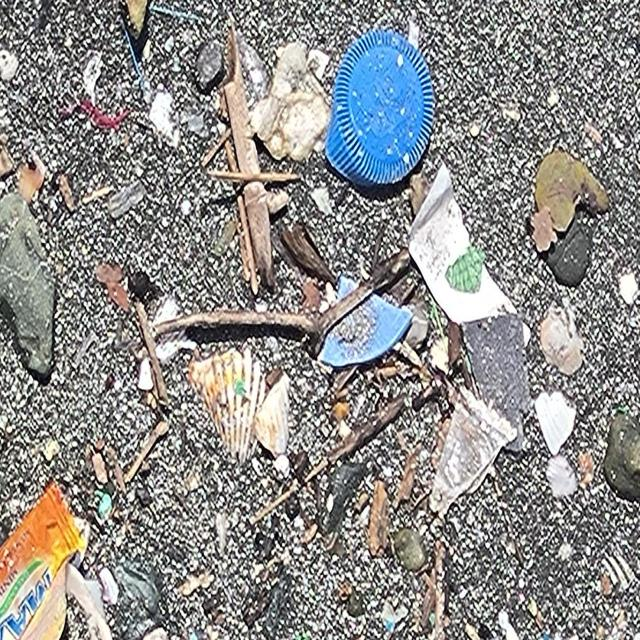plastic_waste: (325, 29, 438, 190), (1, 478, 87, 640)
